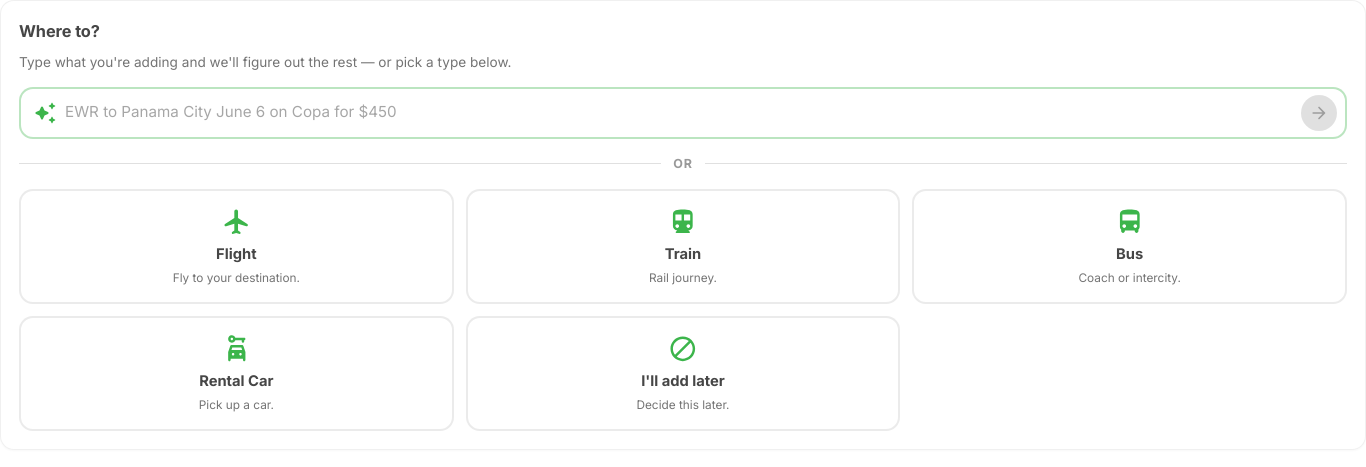
Test: AddDestination/TypeStep › disables the smart submit until text is entered
This screenshot has width=1366, height=467.
Expected: the button named "Detect and continue" is disabled, [1301,94,1337,130]
Type "Tokyo" into the field.
click(679, 112); type("Tokyo")  # box [65,95,1293,130]
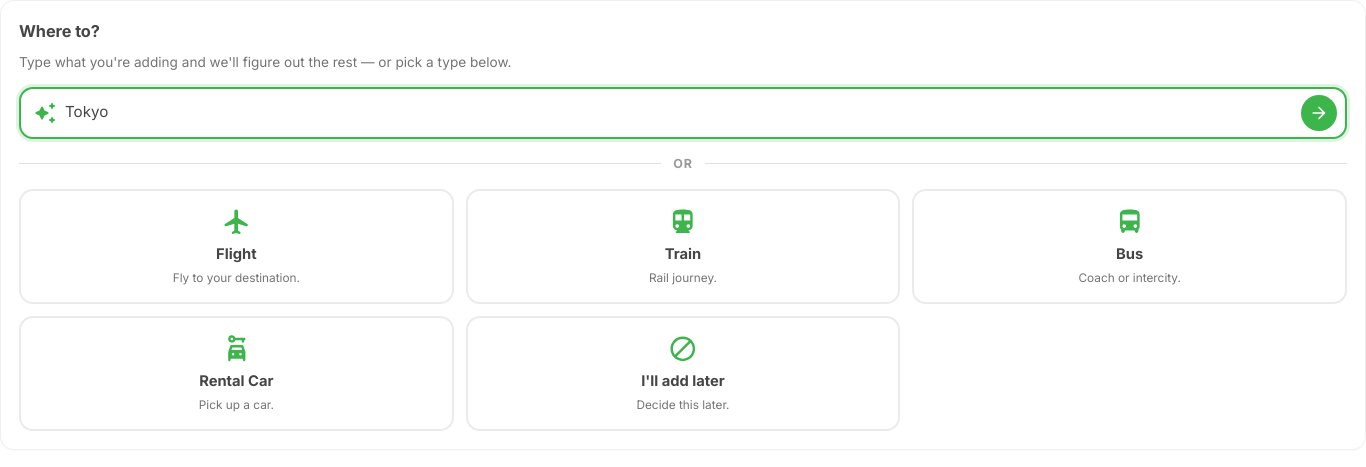
Expected: the button named "Detect and continue" is enabled, [1301,94,1337,130]
